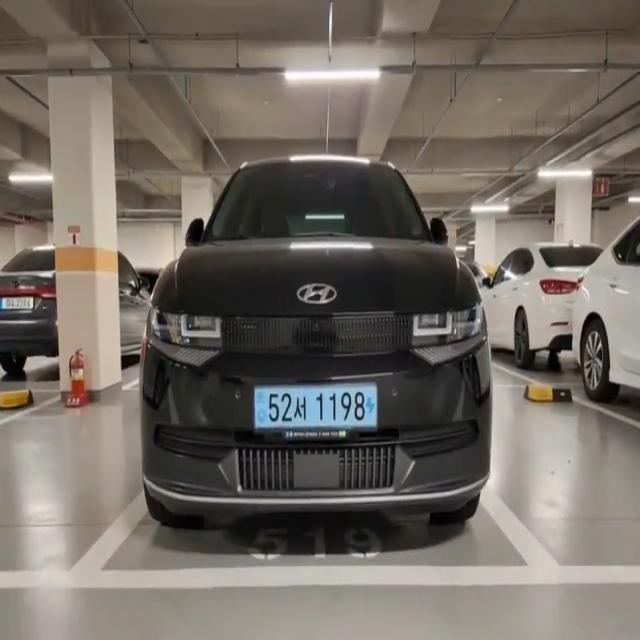car: (252, 383, 382, 435)
carev: (254, 383, 268, 432), (363, 387, 377, 425)
